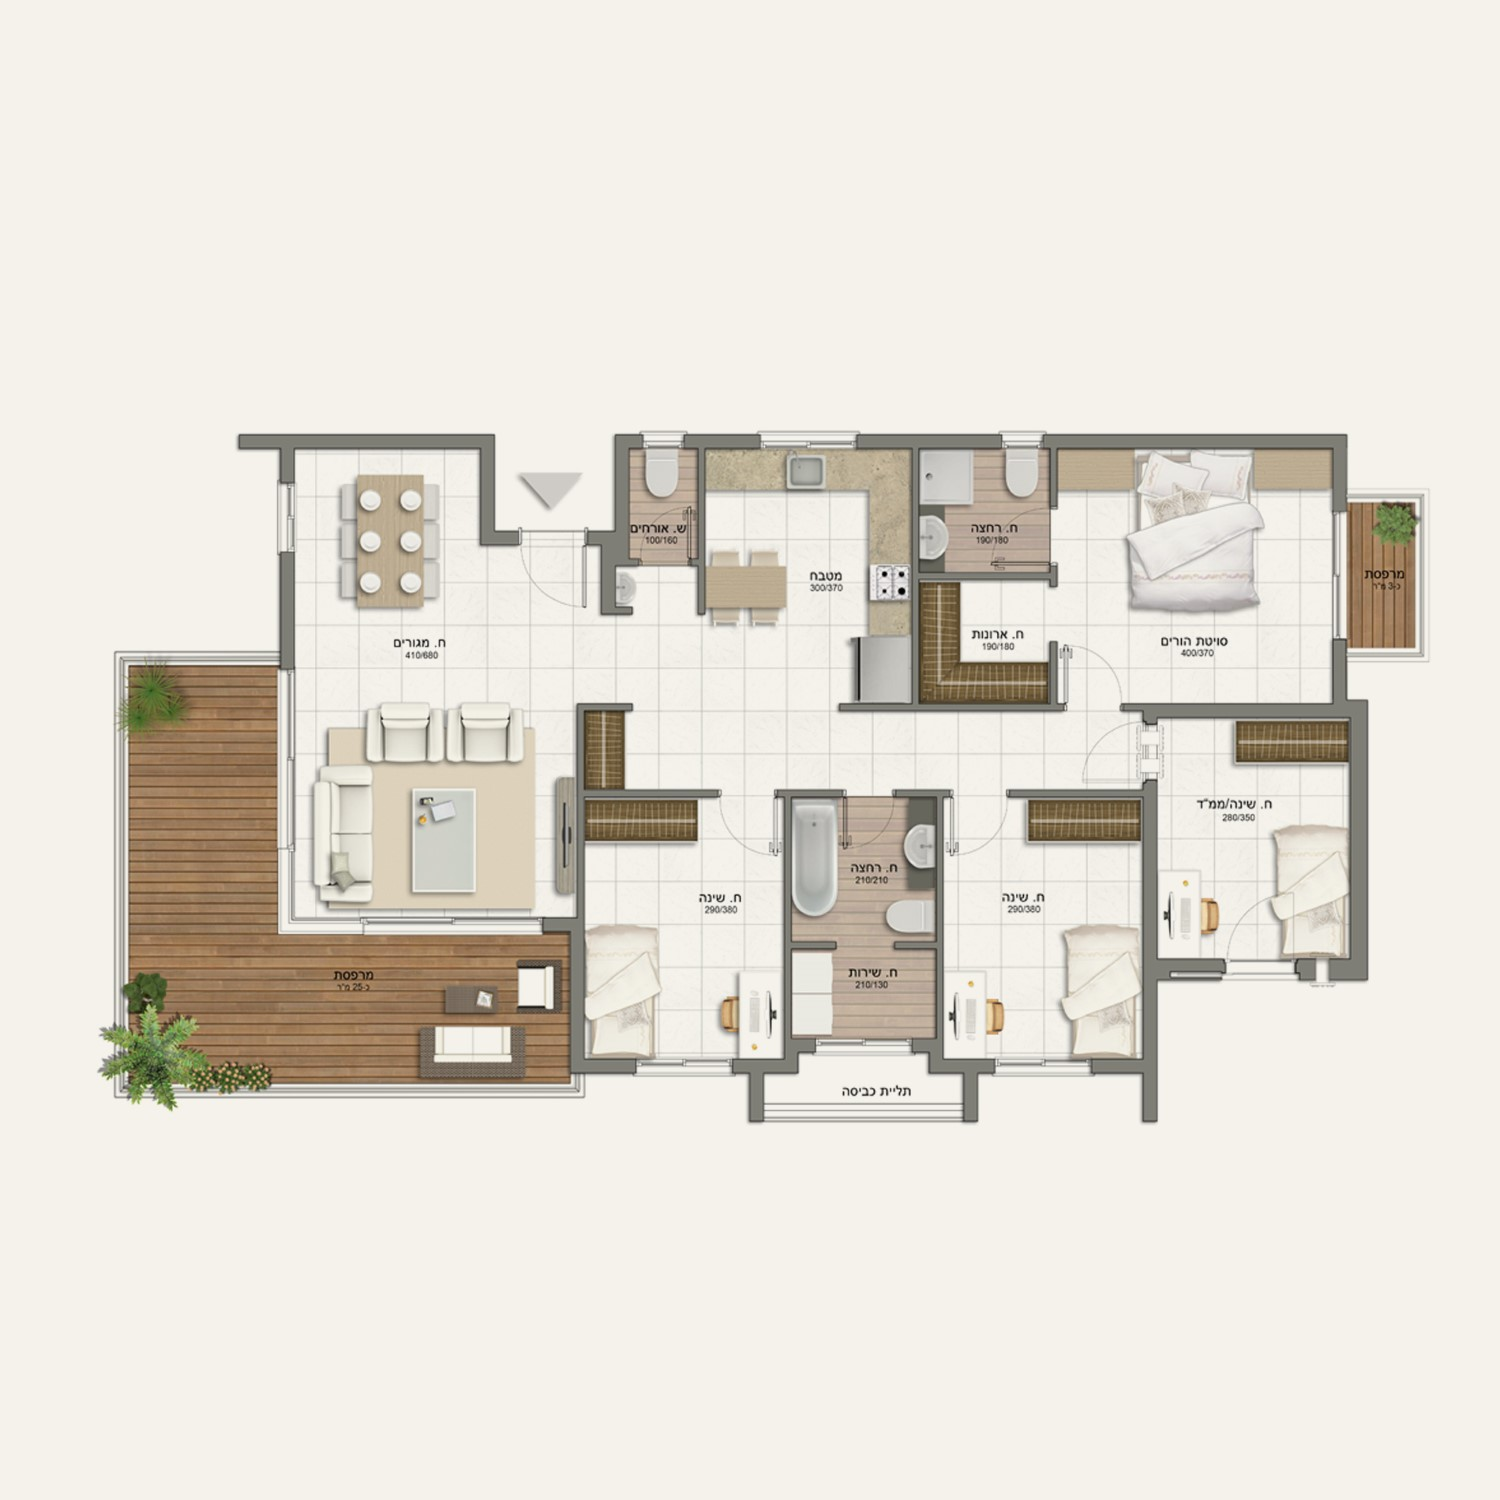door: (511, 554, 596, 615), (946, 806, 1012, 870), (1059, 639, 1132, 694), (716, 805, 783, 861), (988, 510, 1045, 569), (839, 806, 890, 856)
wall: (1143, 784, 1158, 1121), (1349, 717, 1367, 979), (1043, 435, 1345, 451), (239, 434, 493, 451), (1144, 705, 1367, 717), (732, 1059, 798, 1095), (937, 790, 945, 1074), (570, 931, 585, 1076), (615, 435, 630, 567), (784, 795, 791, 1074), (696, 444, 706, 617), (481, 437, 496, 544), (280, 554, 294, 668), (912, 434, 918, 709), (577, 703, 584, 919), (1008, 790, 1157, 799), (585, 790, 724, 799), (571, 1058, 636, 1076), (1154, 957, 1225, 973), (685, 435, 761, 446), (544, 918, 585, 931)
window: (277, 1082, 587, 1104), (1220, 882, 1301, 946), (1074, 718, 1136, 787), (766, 1102, 963, 1120), (356, 918, 541, 935), (115, 740, 128, 960), (277, 758, 304, 853), (996, 1059, 1089, 1081), (1334, 512, 1348, 639), (1228, 959, 1294, 985), (280, 670, 298, 760), (277, 485, 299, 551), (637, 1060, 734, 1074)
